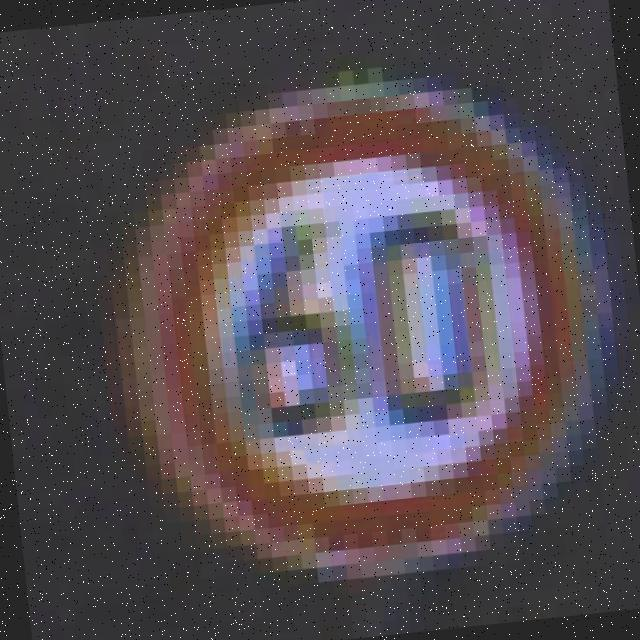Ograniczenie predkosci do 60: (25, 24, 640, 638)
